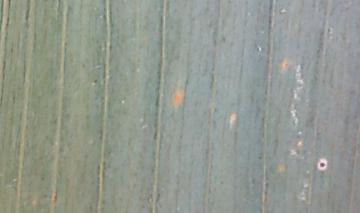tarspot: (318, 161, 326, 169)
